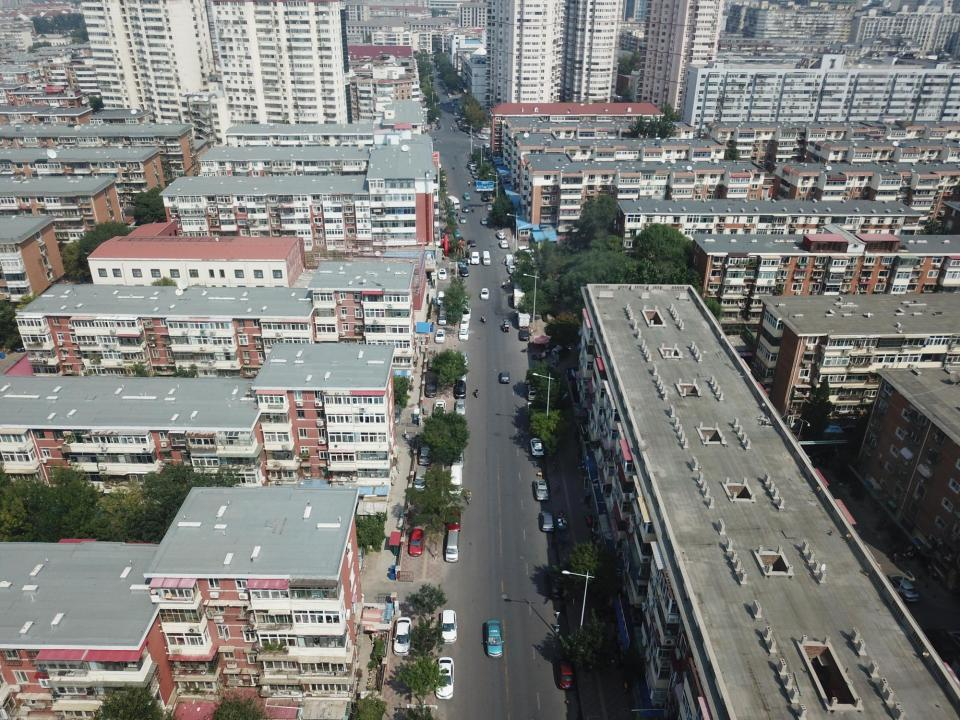car: (554, 651, 578, 690), (434, 656, 454, 700), (392, 616, 411, 657), (485, 619, 503, 658), (439, 610, 458, 644), (544, 568, 564, 598), (408, 528, 423, 557), (539, 510, 553, 532), (534, 478, 548, 500), (424, 376, 438, 398), (529, 438, 545, 456), (432, 399, 446, 419), (418, 447, 431, 465), (453, 380, 466, 398), (526, 382, 538, 400), (456, 350, 468, 367), (454, 399, 466, 415), (434, 328, 446, 343), (458, 327, 469, 342), (436, 290, 446, 306), (438, 312, 449, 325), (520, 327, 530, 341), (499, 371, 510, 383), (460, 294, 469, 307), (480, 288, 489, 300), (470, 252, 479, 264), (460, 318, 470, 328), (499, 239, 509, 249), (461, 307, 470, 318), (459, 266, 468, 277), (438, 268, 446, 280), (497, 230, 506, 240), (506, 265, 516, 273), (467, 239, 476, 247), (518, 246, 530, 252), (452, 229, 460, 237), (463, 192, 471, 200), (481, 217, 488, 226), (459, 215, 466, 224), (478, 135, 488, 140), (481, 195, 488, 202), (462, 205, 468, 213), (486, 204, 493, 210), (483, 143, 490, 148), (471, 168, 476, 174), (470, 165, 476, 170), (472, 173, 478, 177), (475, 179, 480, 183), (467, 161, 472, 165)
truck: (513, 289, 526, 309), (446, 194, 460, 210), (517, 310, 529, 328), (505, 254, 514, 266)
van: (444, 530, 458, 564), (449, 464, 462, 498), (414, 466, 426, 492), (482, 251, 491, 265)
